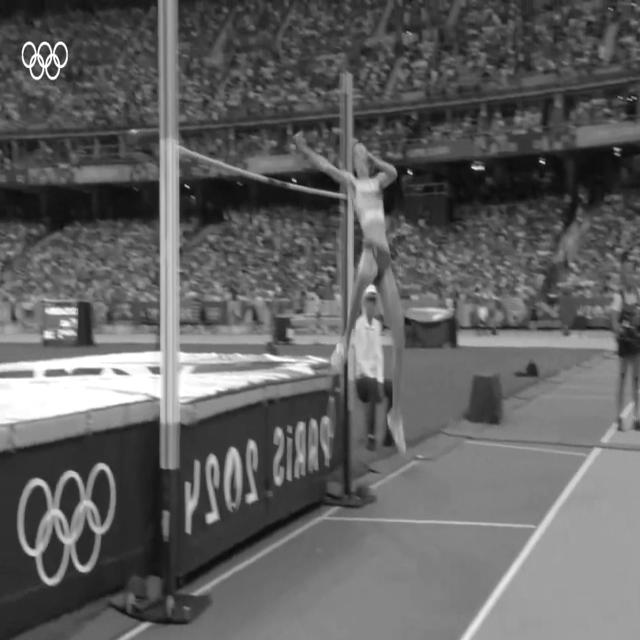jump: (316, 141, 410, 454)
